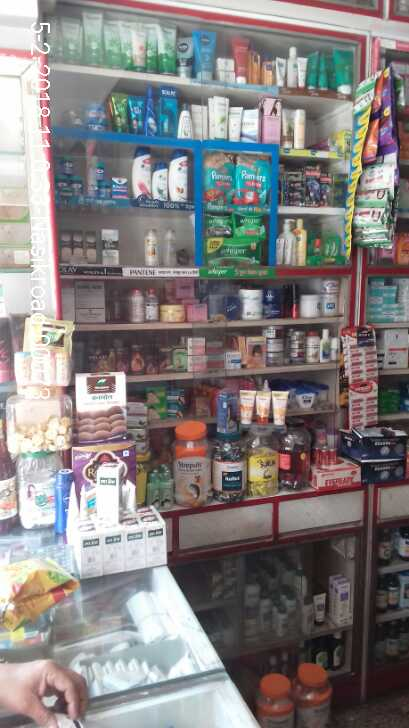vicks: (53, 149, 133, 202)
